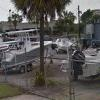Boat: (1, 25, 51, 76)
